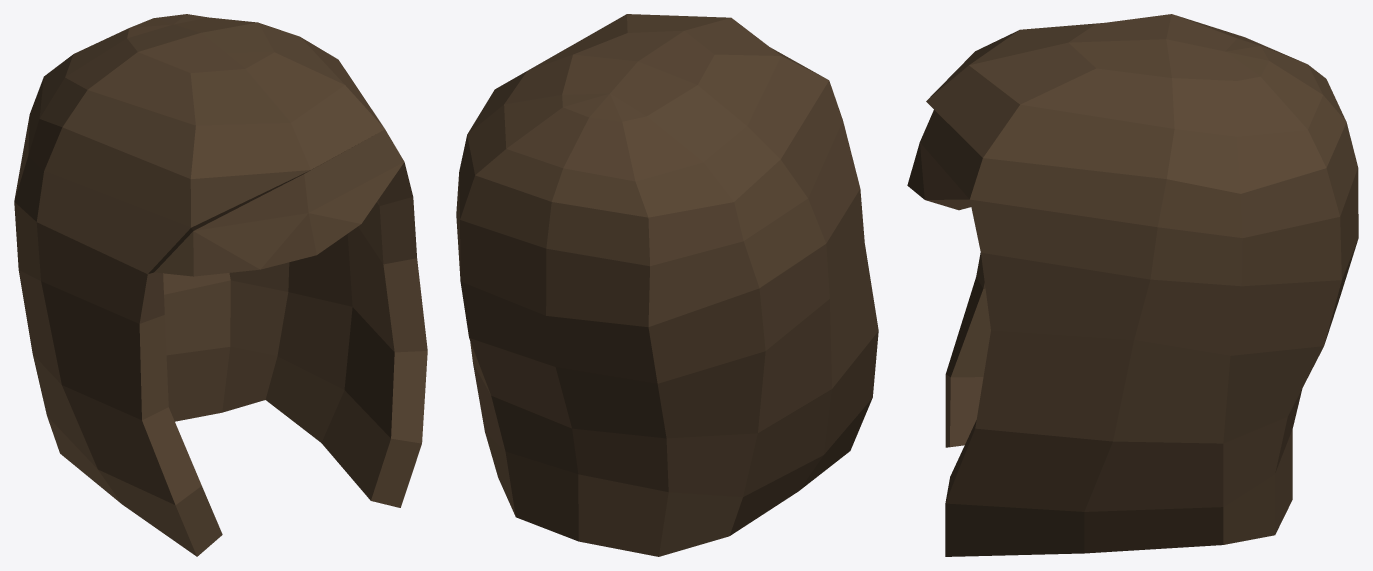
The model's file is Female_Hairstyle_1.glb.
The picture shows the model from 3 angles, left to right: view 1: azimuth 30°, elevation 25°; view 2: azimuth 150°, elevation 25°; view 3: azimuth 270°, elevation 25°; orthographic projection. The views are drawn at different scales.
Parts seen in each view (by area): view 1: Female_Hairstyle_1; view 2: Female_Hairstyle_1; view 3: Female_Hairstyle_1.
Boxes of the visible parts, bbox=[...] form: Female_Hairstyle_1: bbox=[14, 14, 427, 556]; Female_Hairstyle_1: bbox=[456, 14, 878, 556]; Female_Hairstyle_1: bbox=[907, 14, 1358, 556].
Size of the model in its own units: 0.5232 by 0.6348 by 0.5585.
